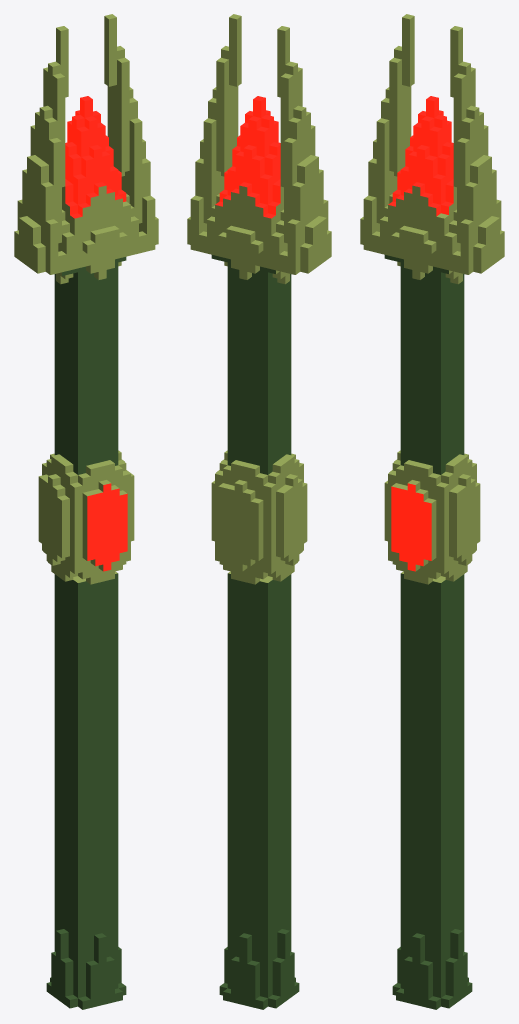
Rendered from Dzida_laserowa.fbx.
3 renders of one model, left to right at view 1: azimuth 30°, elevation 25°; view 2: azimuth 150°, elevation 25°; view 3: azimuth 330°, elevation 25°, orthographic.
Parts seen in each view (by area): view 1: Laserowa dzida; view 2: Laserowa dzida; view 3: Laserowa dzida.
Part boxes in pixels (x1,y1,x2,y2): Laserowa dzida: (14, 14, 158, 1009); Laserowa dzida: (187, 14, 331, 1009); Laserowa dzida: (360, 14, 504, 1009).
Size of the model in its own units: 44.61 by 342 by 26.77.
